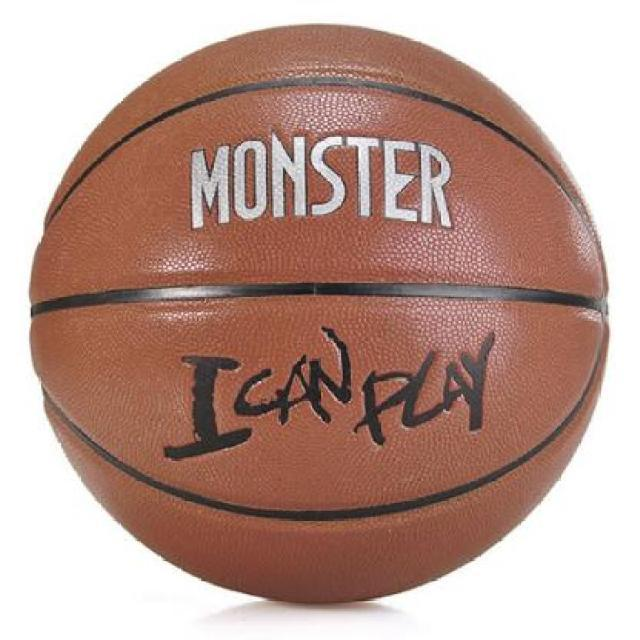basketball: (26, 20, 612, 608)
